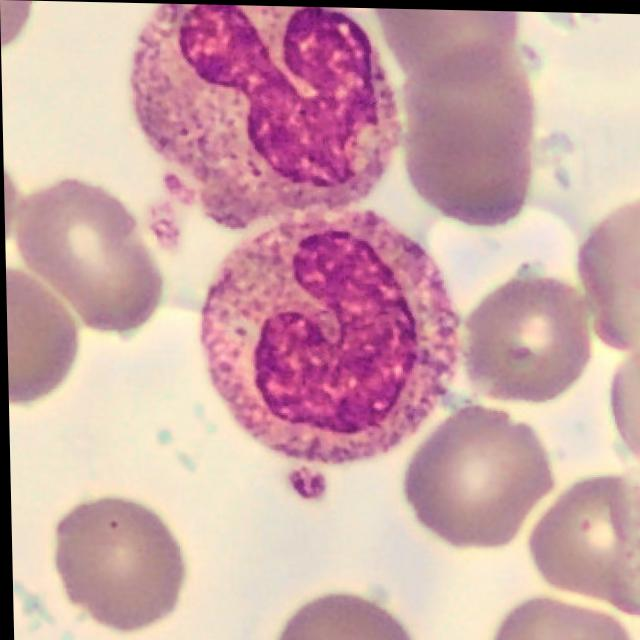Bastonete: (200, 208, 461, 465)
Neutrofilo segmentado: (132, 3, 407, 224)
